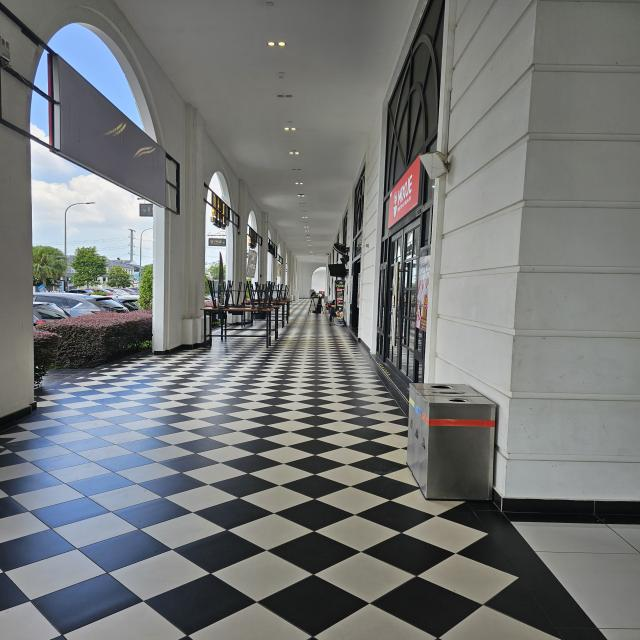door: (379, 215, 430, 385)
footpath: (68, 366, 368, 639)
obstacle: (404, 380, 499, 502), (200, 277, 295, 348)
